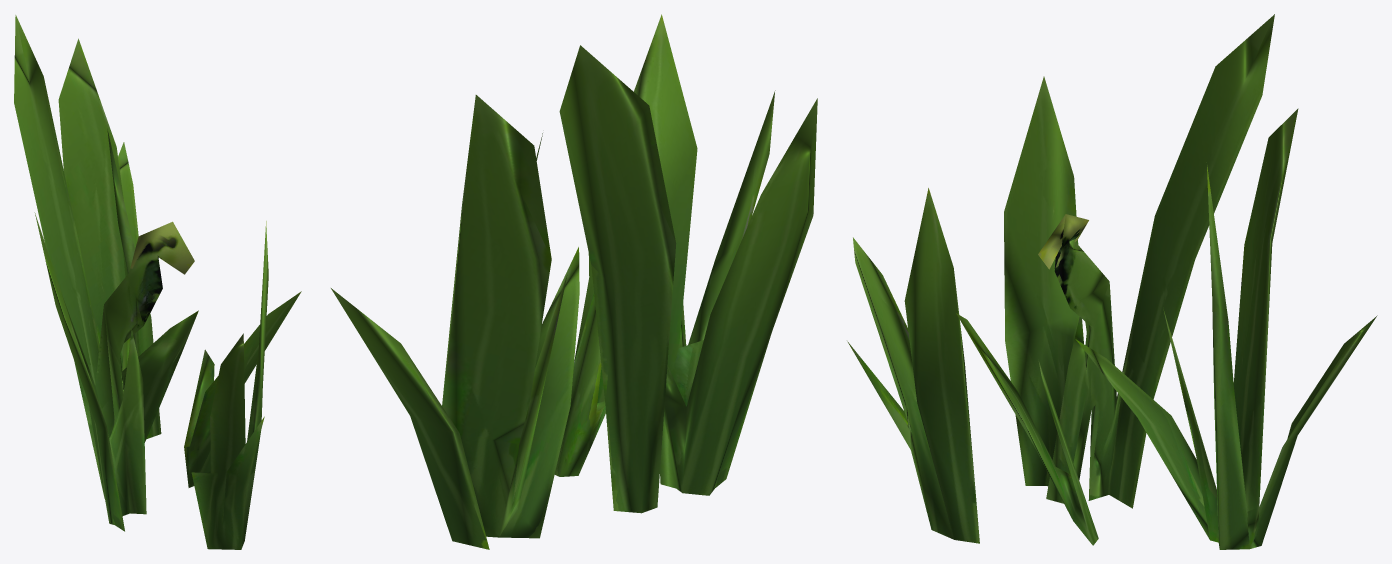
File: Chix_Grass2.fbx
The picture shows the model from 3 angles, left to right: view 1: azimuth 30°, elevation 25°; view 2: azimuth 150°, elevation 25°; view 3: azimuth 270°, elevation 25°; orthographic projection. The views are drawn at different scales.
Visible parts, largest first — view 1: tripo_node_cf6b6e46; view 2: tripo_node_cf6b6e46; view 3: tripo_node_cf6b6e46.
Boxes of the visible parts, x1,y1,x2,y2 form: tripo_node_cf6b6e46: (14,15,301,549); tripo_node_cf6b6e46: (331,14,817,549); tripo_node_cf6b6e46: (847,14,1377,549).
Bounding box in the file's own units: 0.3813 × 0.6637 × 0.6624.
Materials: 1 (1 with a texture image).
